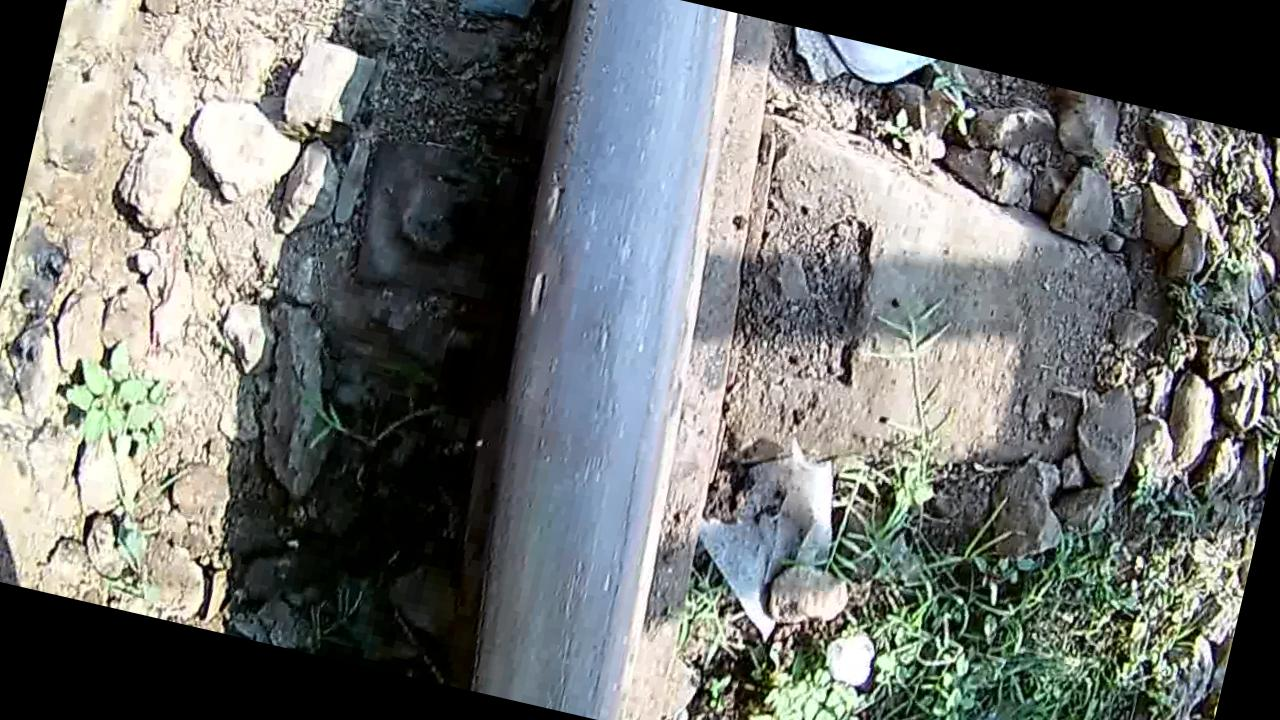crack: (501, 114, 618, 352)
